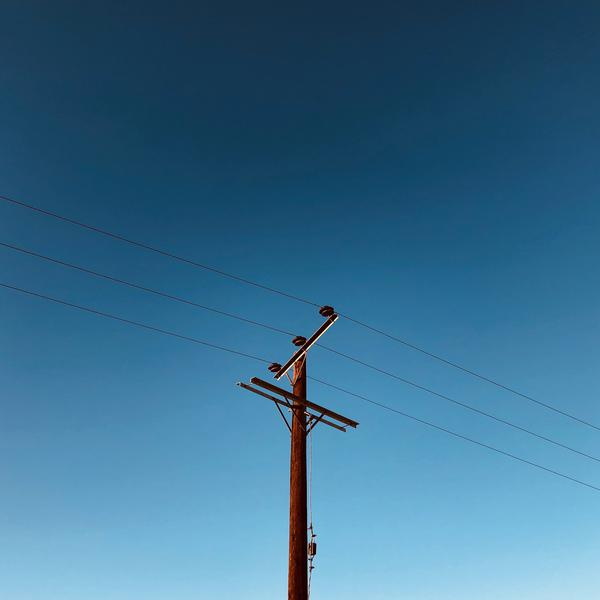utility_pole: (230, 295, 364, 459)
